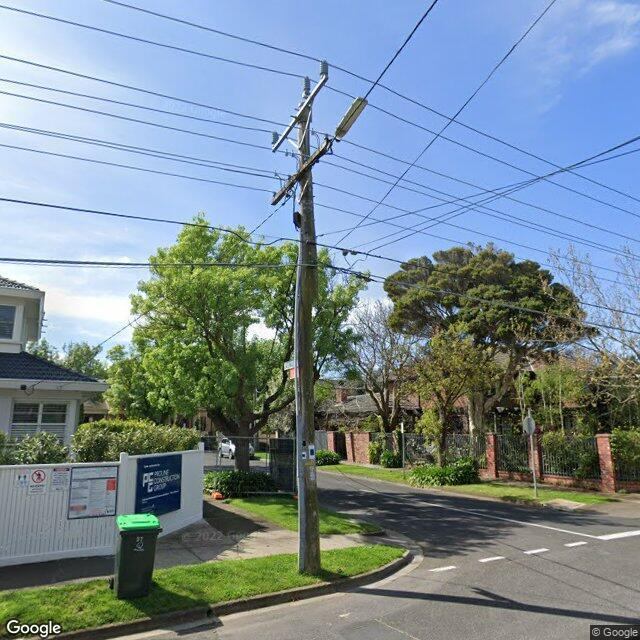HV-transmission: (272, 60, 329, 143)
crossarm: (272, 75, 330, 154), (271, 139, 332, 205)
streetlight: (325, 98, 368, 148)
timber-pole: (293, 103, 321, 574)
